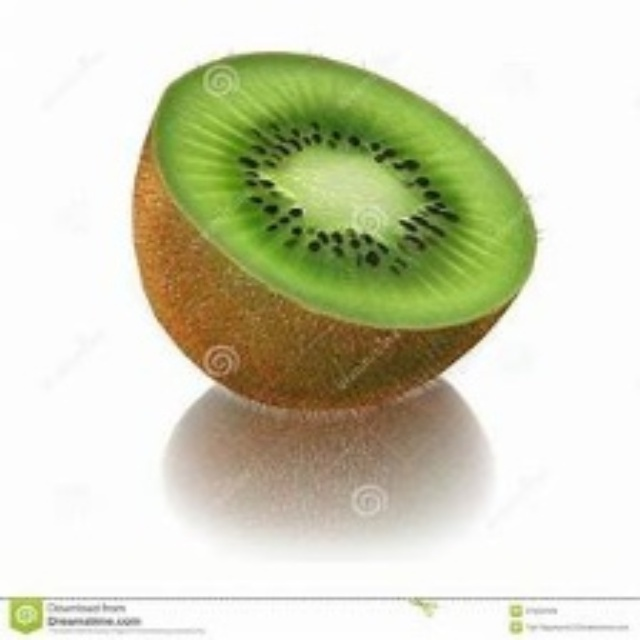kiwi: (140, 53, 538, 405)
